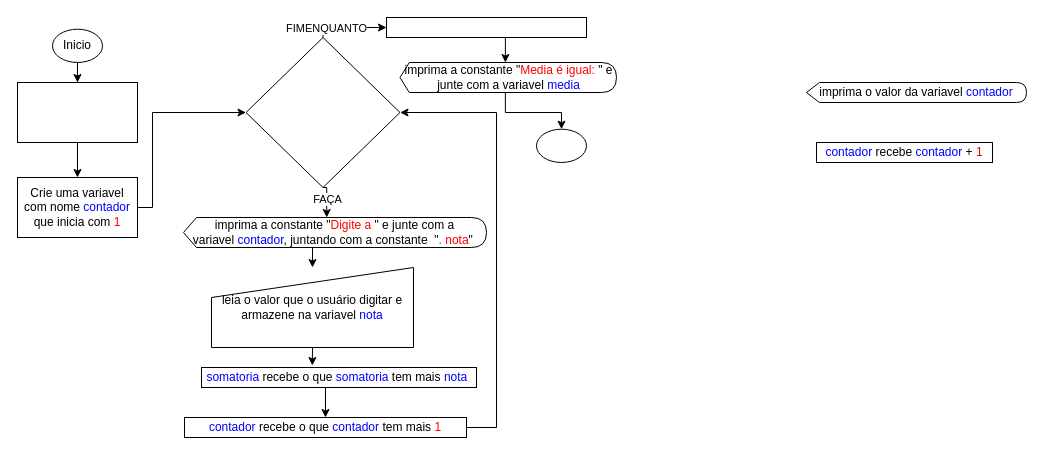
This 1044x455 diagram has some shape labels left out. Each missing label, with the centre of its shape:
Crie uma constante com nome QTD e o valor de 100: pixel 77 112
Enquanto a variavel contador for menor ou igual a constante QTD: pixel 322 112
Fim: pixel 561 145
media recebe somatoria / QTD: pixel 486 27
